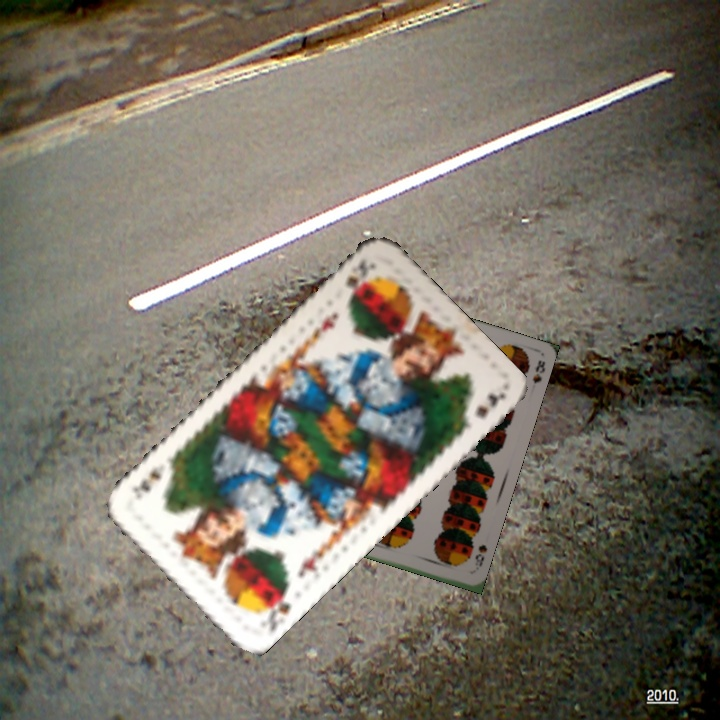S8: (471, 541, 490, 569)
SK: (342, 253, 378, 301), (261, 584, 294, 633)
